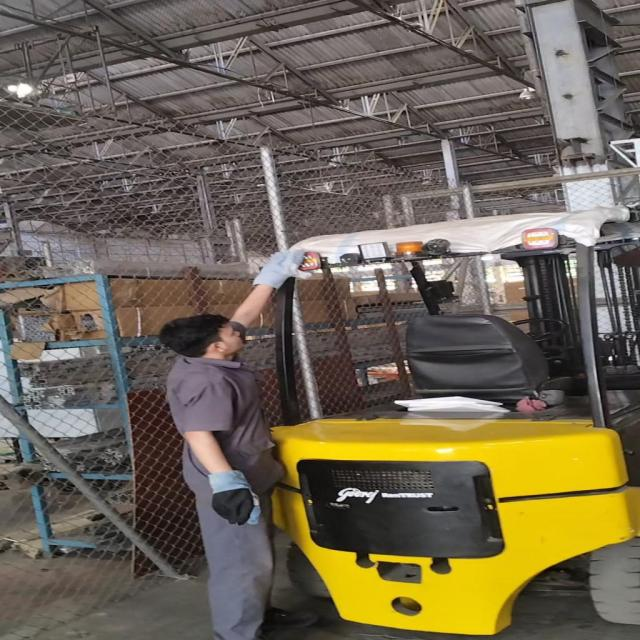Gloves-Detection: (198, 466, 260, 526), (242, 246, 312, 293)
